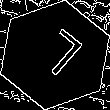L_SW: (26, 26, 84, 84)
